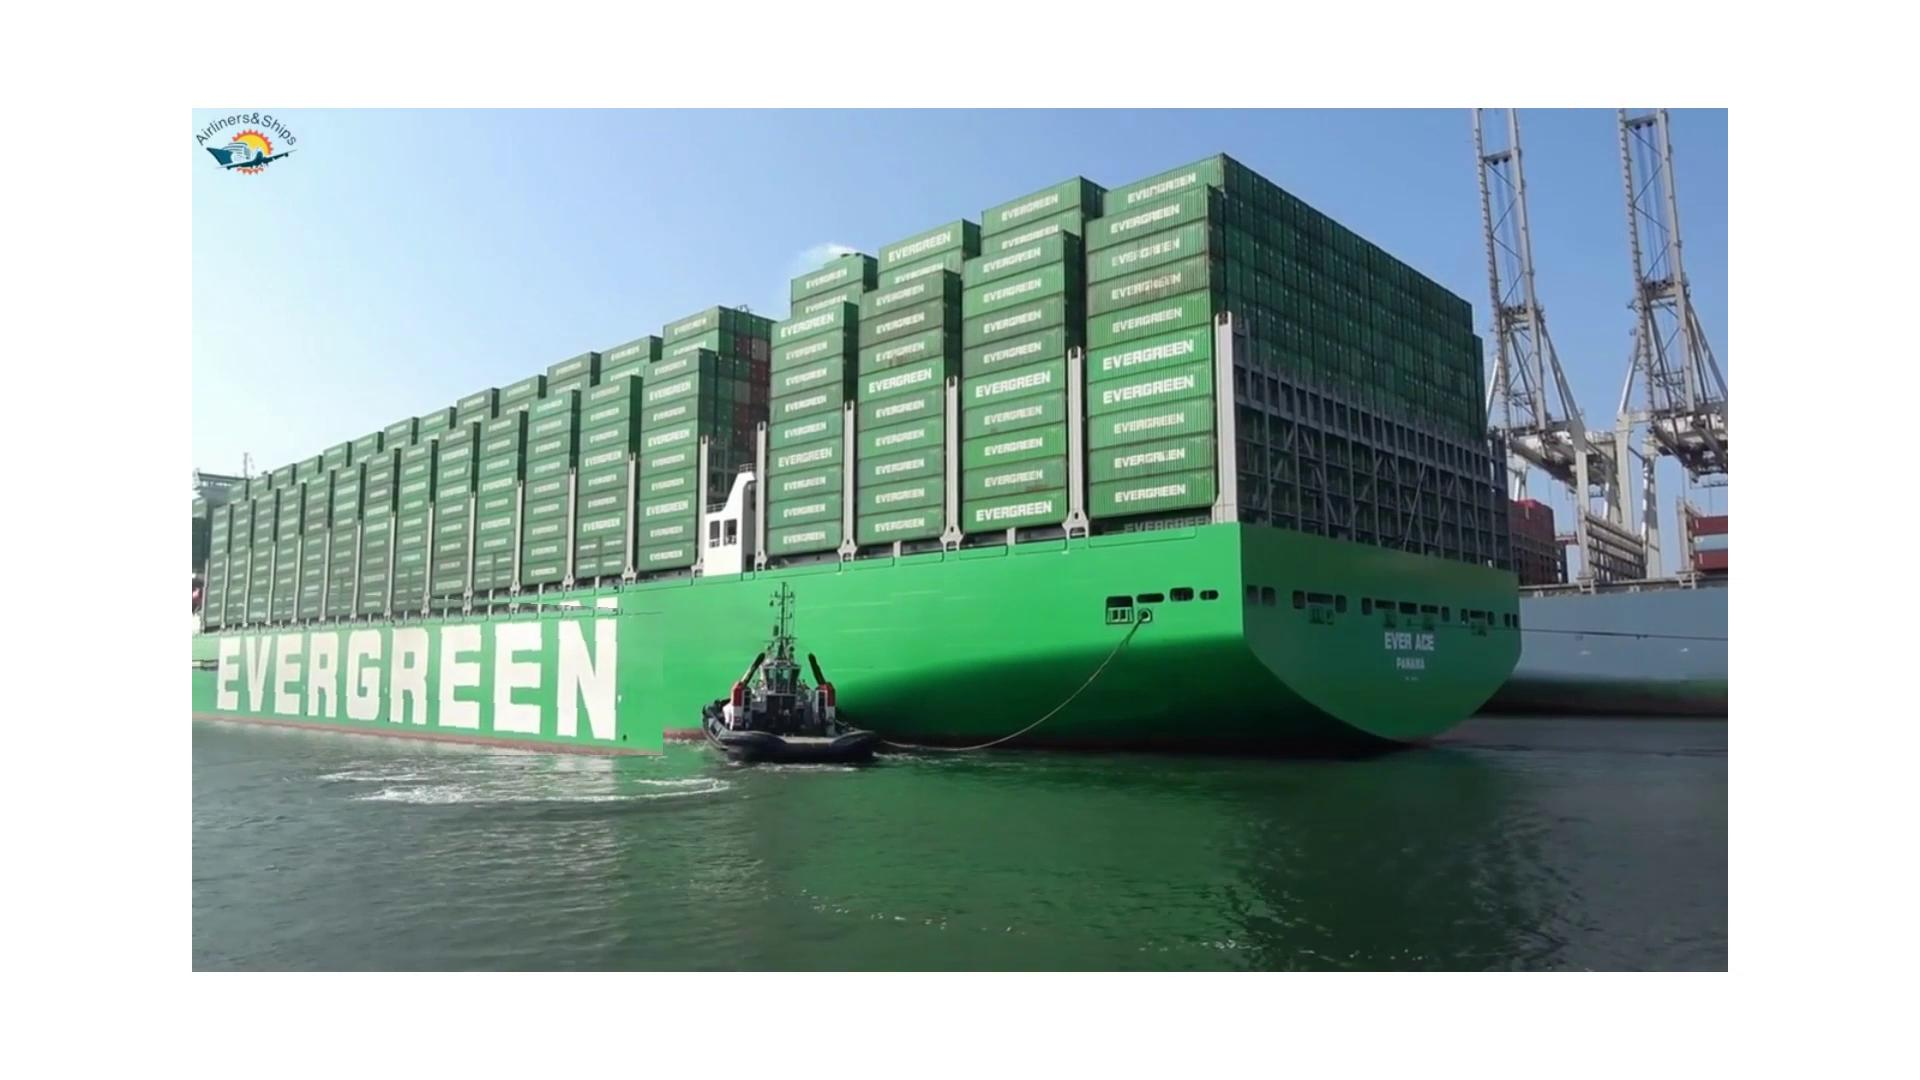OCR: (194, 585, 663, 756)
